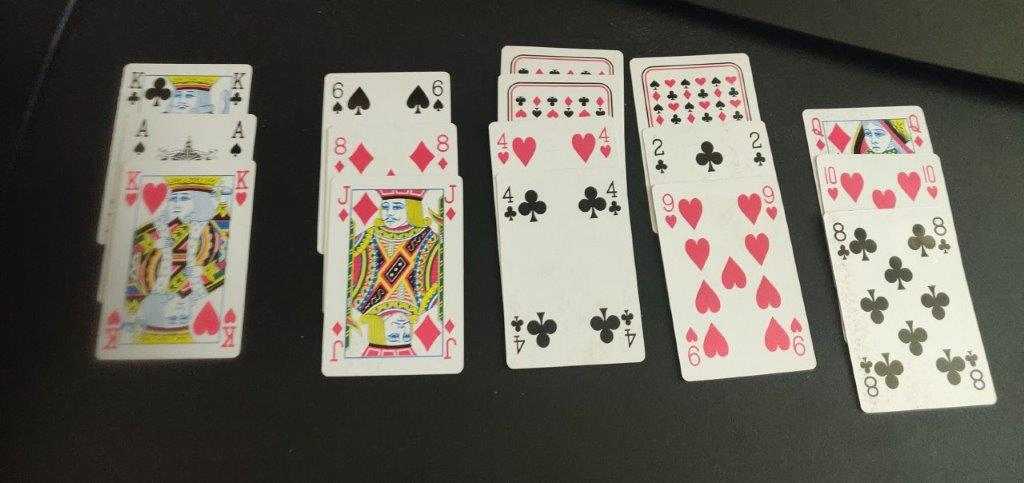10H: (817, 159, 839, 207), (920, 160, 943, 204)
2C: (649, 135, 673, 177), (747, 127, 768, 170)
4C: (602, 177, 625, 223), (500, 182, 520, 227)
4H: (490, 125, 515, 170), (598, 124, 616, 162)
6S: (329, 78, 347, 118), (430, 77, 447, 113)
8C: (929, 213, 956, 261), (827, 219, 853, 266)
8D: (430, 130, 453, 174), (329, 133, 348, 174)
9H: (759, 181, 783, 225), (657, 190, 680, 232)
AS: (227, 114, 249, 160), (129, 117, 151, 159)
JD: (437, 180, 461, 225), (333, 182, 355, 226)
KC: (120, 66, 145, 108), (227, 65, 248, 109)
KH: (229, 166, 253, 211), (120, 166, 143, 211)
QD: (904, 108, 928, 149), (808, 113, 830, 154)
